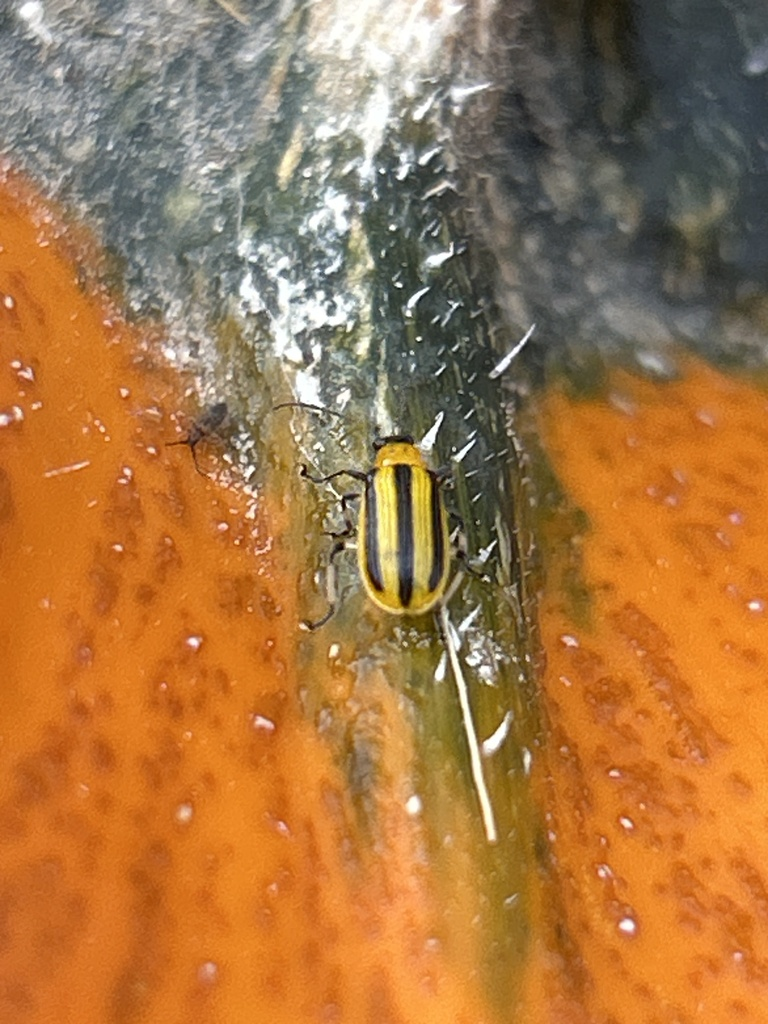potato_beetle: (224, 352, 555, 747)
